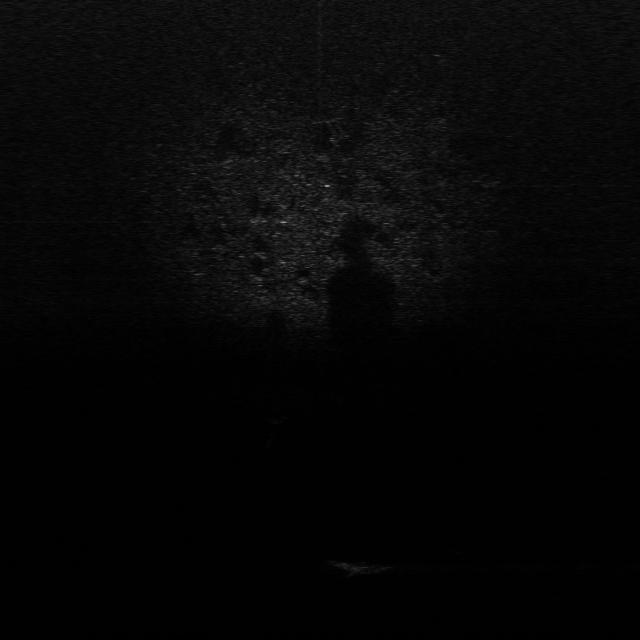metal bucket: (334, 557, 394, 575)
